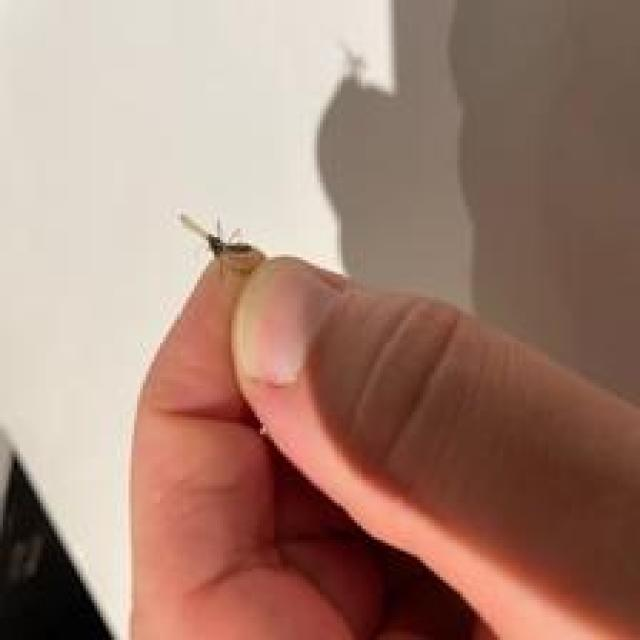Culex: (177, 210, 266, 279)
